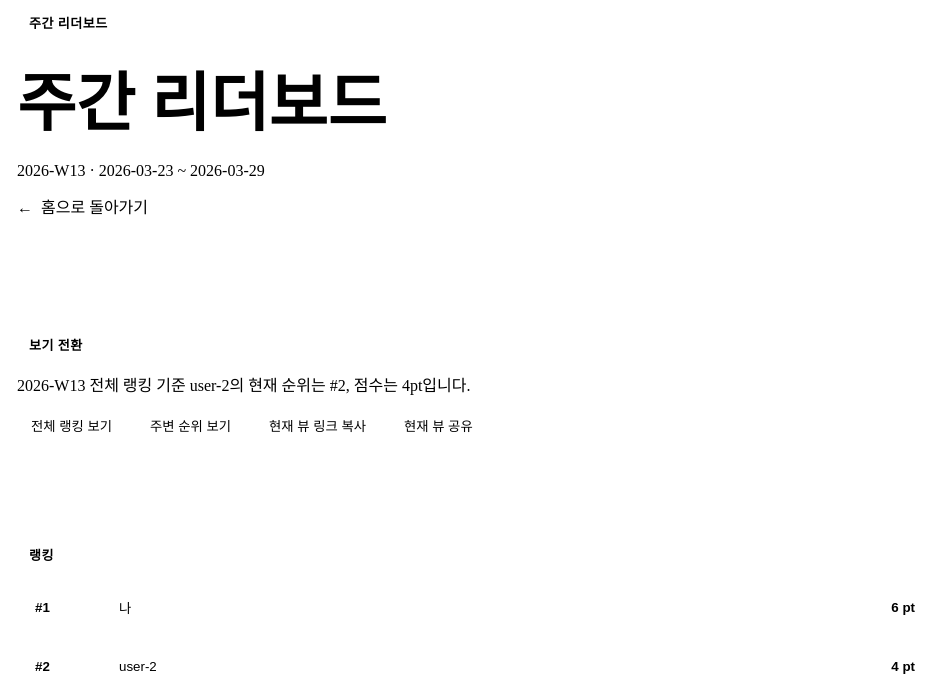
it: leaderboard ui › returns to the previous focused user from history
Click the button "#1 나 6 pt": point(39, 607) [17,582,933,633]
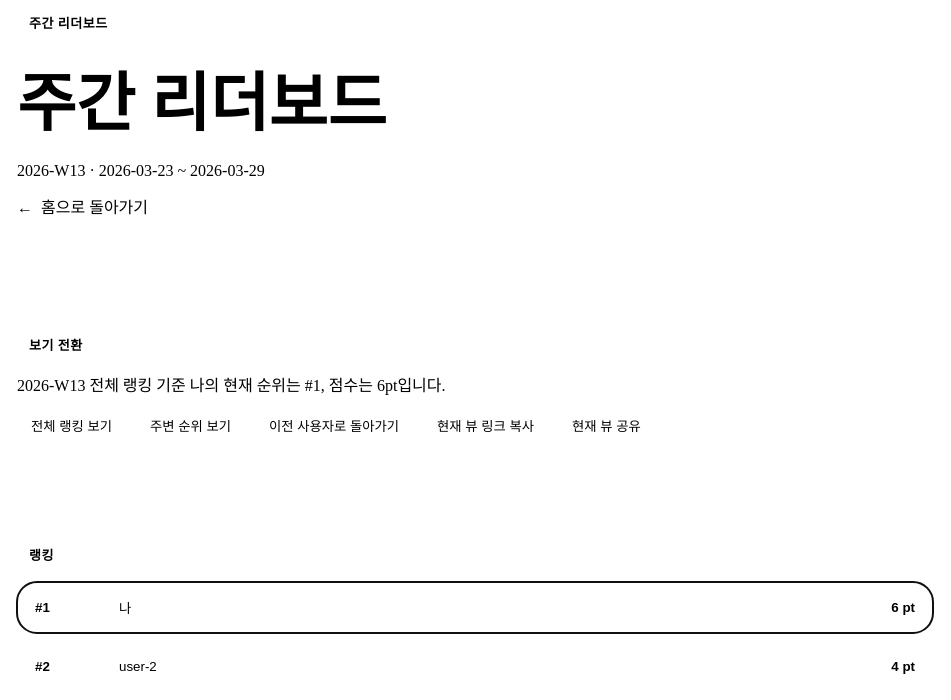
Click the button "이전 사용자로 돌아가기": point(334, 425) [255,408,413,443]
(page scrolled)
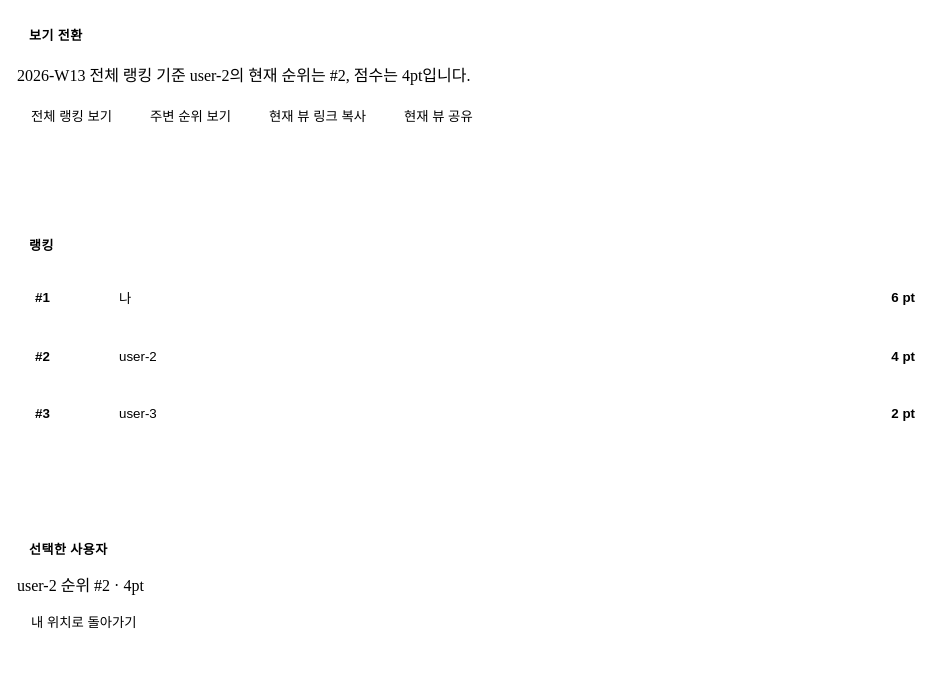
Check: the text "선택한 사용자" is shown, box [29,542,108,557]
Check: the text "user-2 순위 #2 · 4pt" is shown, box [17,577,144,594]
